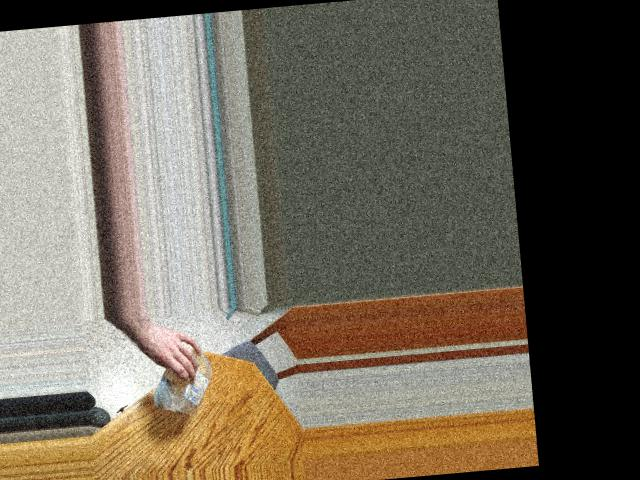cheese: (166, 349, 212, 410)
